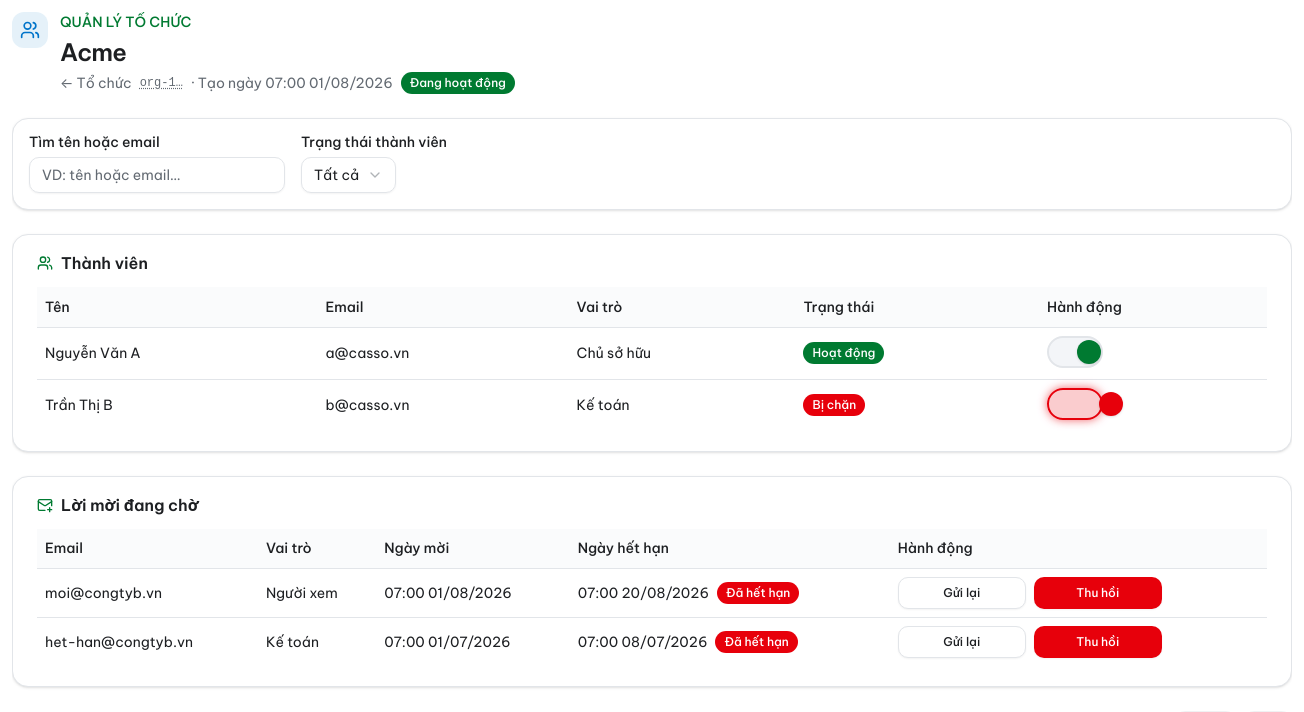
AdminOrganizationMembersPage › pending invites › does not disable revoke while resend is in flight for the same row
Click the button "Gửi lại" in the row of "moi@congtyb.vn" at x=962, y=593, box [898,577,1026,609]
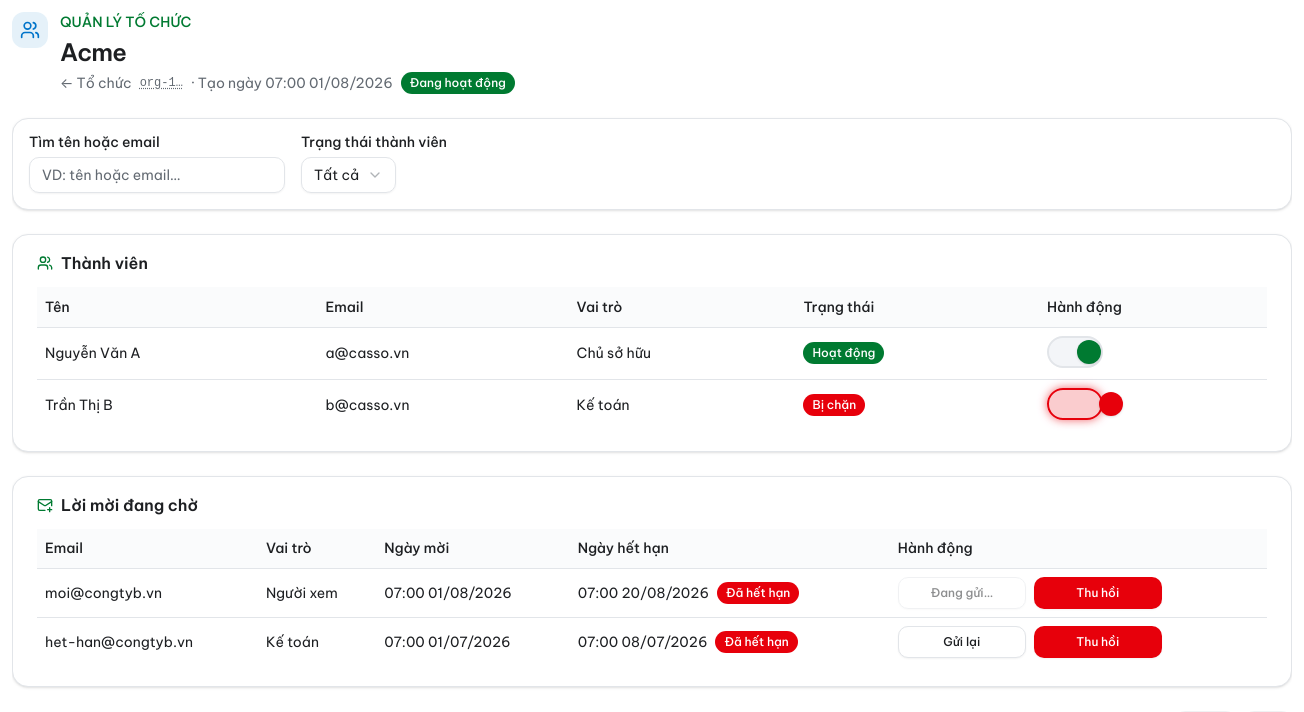
Check: the button "Thu hồi" in the row of "moi@congtyb.vn" is enabled, box [1034,577,1162,609]
Check: the button "Đang gửi…" is shown, box [898,577,1026,609]
